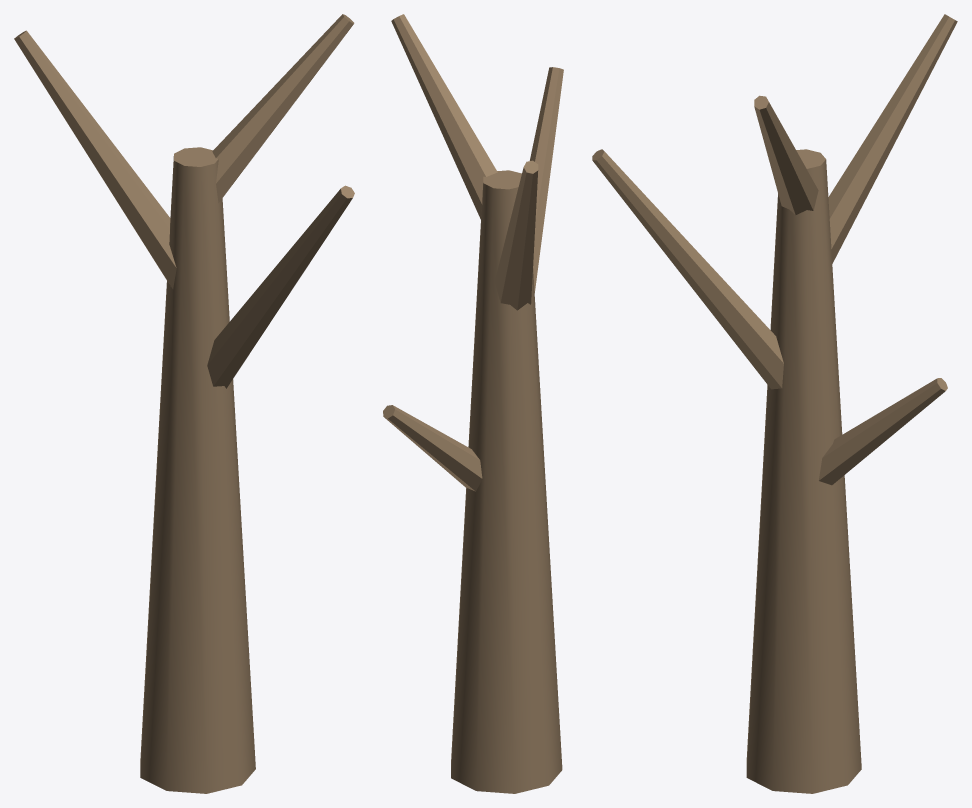
Rendered from prop_tree_desert_1.glb.
3 views of the same model, side by side, from view 1: azimuth 30°, elevation 25°; view 2: azimuth 150°, elevation 25°; view 3: azimuth 270°, elevation 25° (orthographic). The views are drawn at different scales.
Visible parts, largest first — view 1: Trunk, Branch1, Branch0, Branch2; view 2: Trunk, Branch2, Branch1, Branch3, Branch0; view 3: Trunk, Branch0, Branch1, Branch3, Branch2.
Part boxes in pixels (left/top/right/bottom): Trunk: left=140, top=147, right=255, bottom=793; Branch1: left=14, top=30, right=176, bottom=288; Branch0: left=207, top=185, right=354, bottom=388; Branch2: left=212, top=14, right=354, bottom=202; Trunk: left=451, top=170, right=562, bottom=793; Branch2: left=391, top=14, right=497, bottom=219; Branch1: left=495, top=160, right=538, bottom=310; Branch3: left=383, top=405, right=482, bottom=491; Branch0: left=529, top=67, right=563, bottom=292; Trunk: left=746, top=149, right=861, bottom=793; Branch0: left=592, top=149, right=783, bottom=389; Branch1: left=828, top=14, right=957, bottom=263; Branch3: left=818, top=378, right=947, bottom=485; Branch2: left=754, top=95, right=818, bottom=214.
Size of the model in its own units: 1.42 by 4.1 by 1.85.
